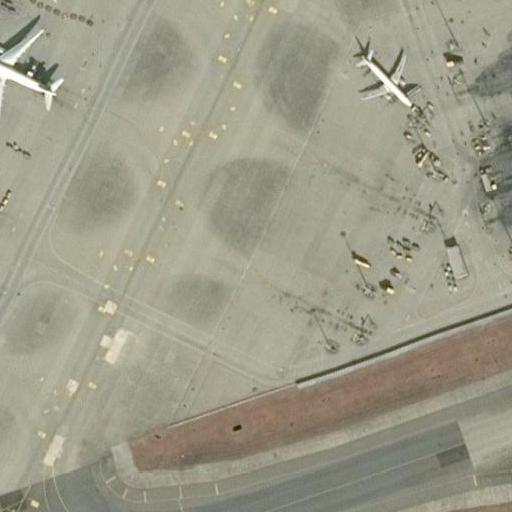Aircraft: (0, 22, 65, 122), (347, 40, 423, 111)
